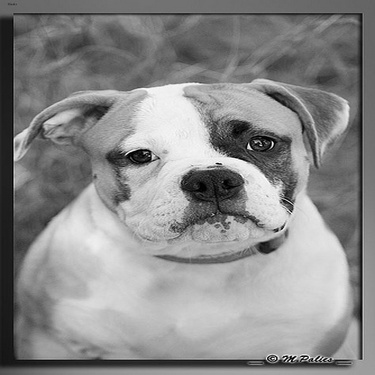dog: (4, 71, 366, 367)
